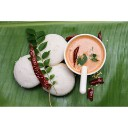idly: (42, 64, 73, 96), (38, 33, 67, 64), (15, 55, 42, 86)
